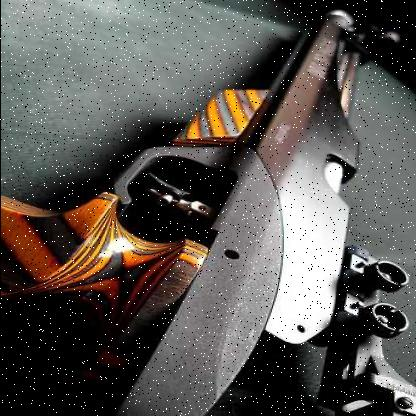rifle: (1, 6, 405, 415)
